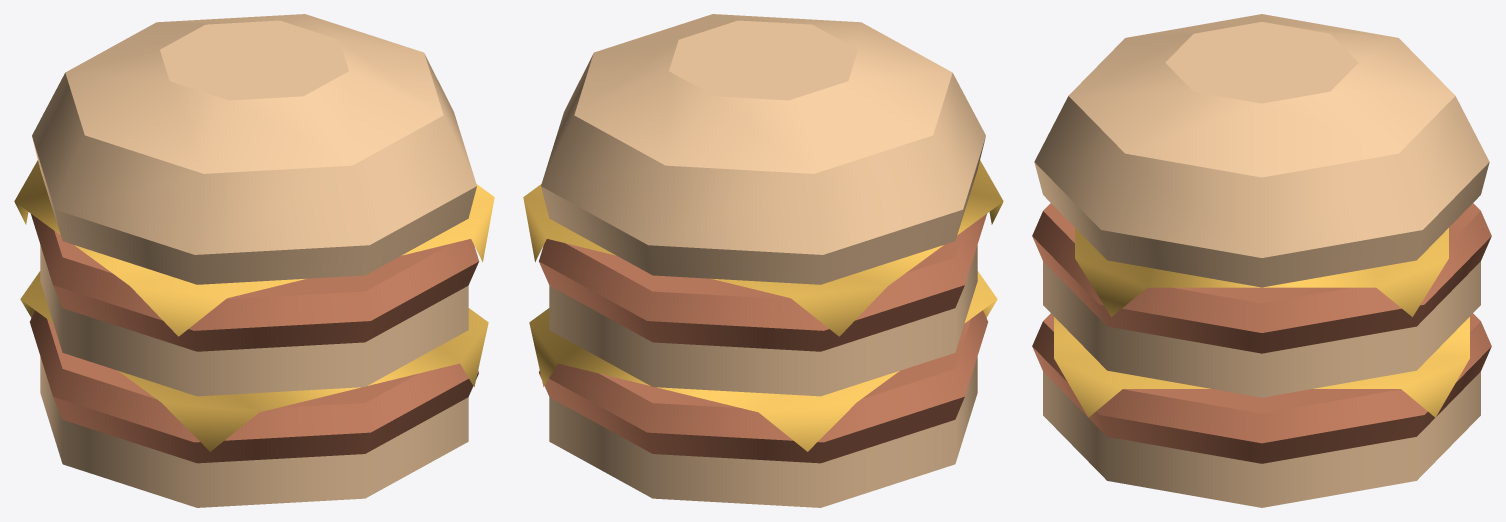
File: burgerCheeseDouble.obj
3 renders of one model, left to right at view 1: azimuth 30°, elevation 25°; view 2: azimuth 150°, elevation 25°; view 3: azimuth 270°, elevation 25°, orthographic.
Parts seen in each view (by area): view 1: bunTop, patty, bunBottom, cheese; view 2: bunTop, patty, bunBottom, cheese; view 3: bunTop, patty, bunBottom, cheese.
Boxes of the visible parts, left/top/right/bottom form: bunTop: left=32, top=14, right=476, bottom=284; patty: left=30, top=214, right=479, bottom=463; bunBottom: left=40, top=245, right=468, bottom=507; cheese: left=14, top=160, right=494, bottom=451; bunTop: left=541, top=14, right=985, bottom=284; patty: left=538, top=214, right=987, bottom=463; bunBottom: left=549, top=245, right=977, bottom=507; cheese: left=523, top=160, right=1003, bottom=451; bunTop: left=1034, top=14, right=1489, bottom=287; patty: left=1032, top=203, right=1491, bottom=463; bunBottom: left=1043, top=261, right=1480, bottom=507; cheese: left=1054, top=228, right=1469, bottom=417.
Size of the model in its own units: 0.378 by 0.32 by 0.378.
